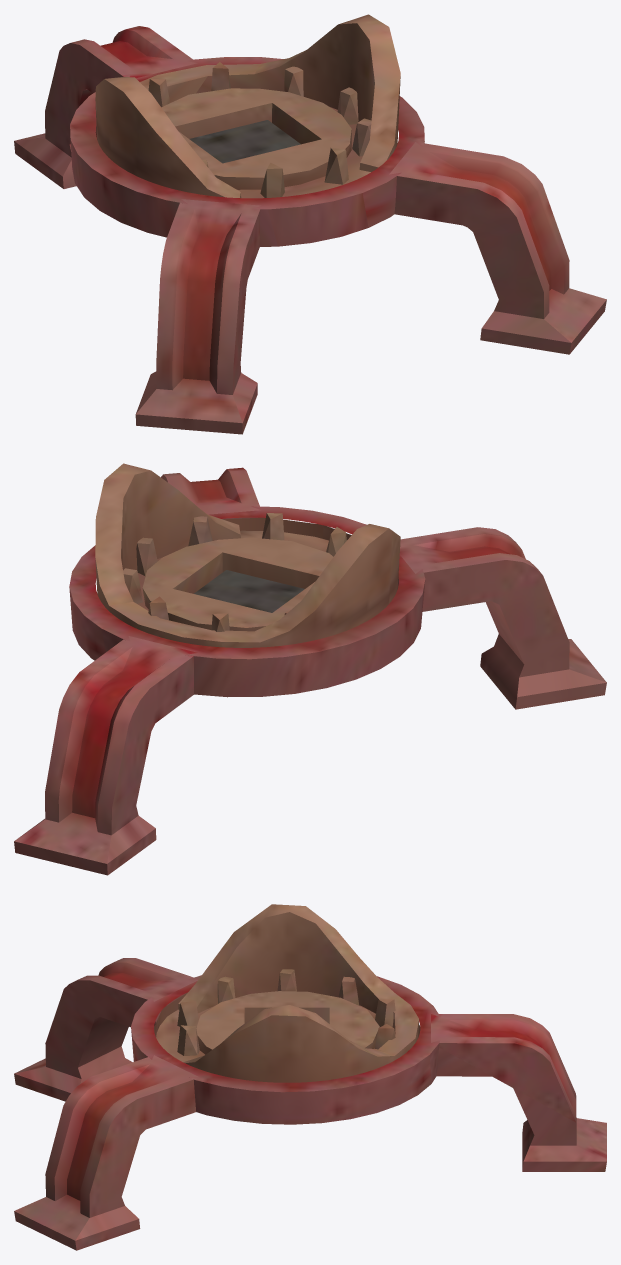
Rendered from long-handed-inserter.glb.
The picture shows the model from 3 angles, top to bottom: view 1: azimuth 30°, elevation 25°; view 2: azimuth 150°, elevation 25°; view 3: azimuth 270°, elevation 25°; orthographic projection. The views are drawn at different scales.
Visible parts, largest first — view 1: body; view 2: body; view 3: body.
Boxes of the visible parts, <box> form: body: <box>14,14,606,434</box>; body: <box>14,463,606,875</box>; body: <box>14,904,606,1250</box>.
Bounding box in the file's own units: 0.9048 × 0.4168 × 1.15.
1 material, 1 textured.
